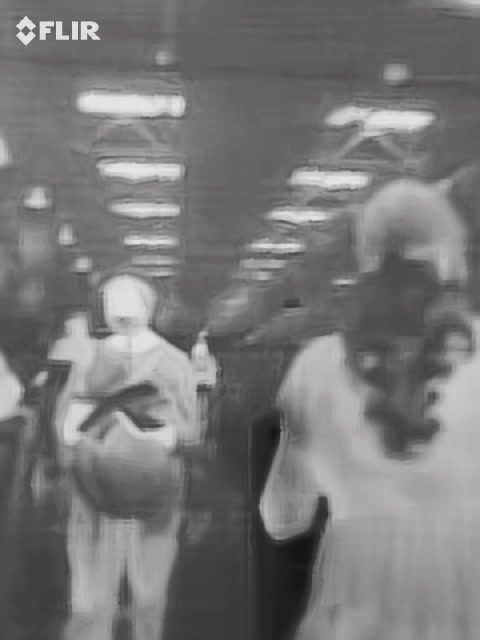head: (101, 273, 156, 336)
